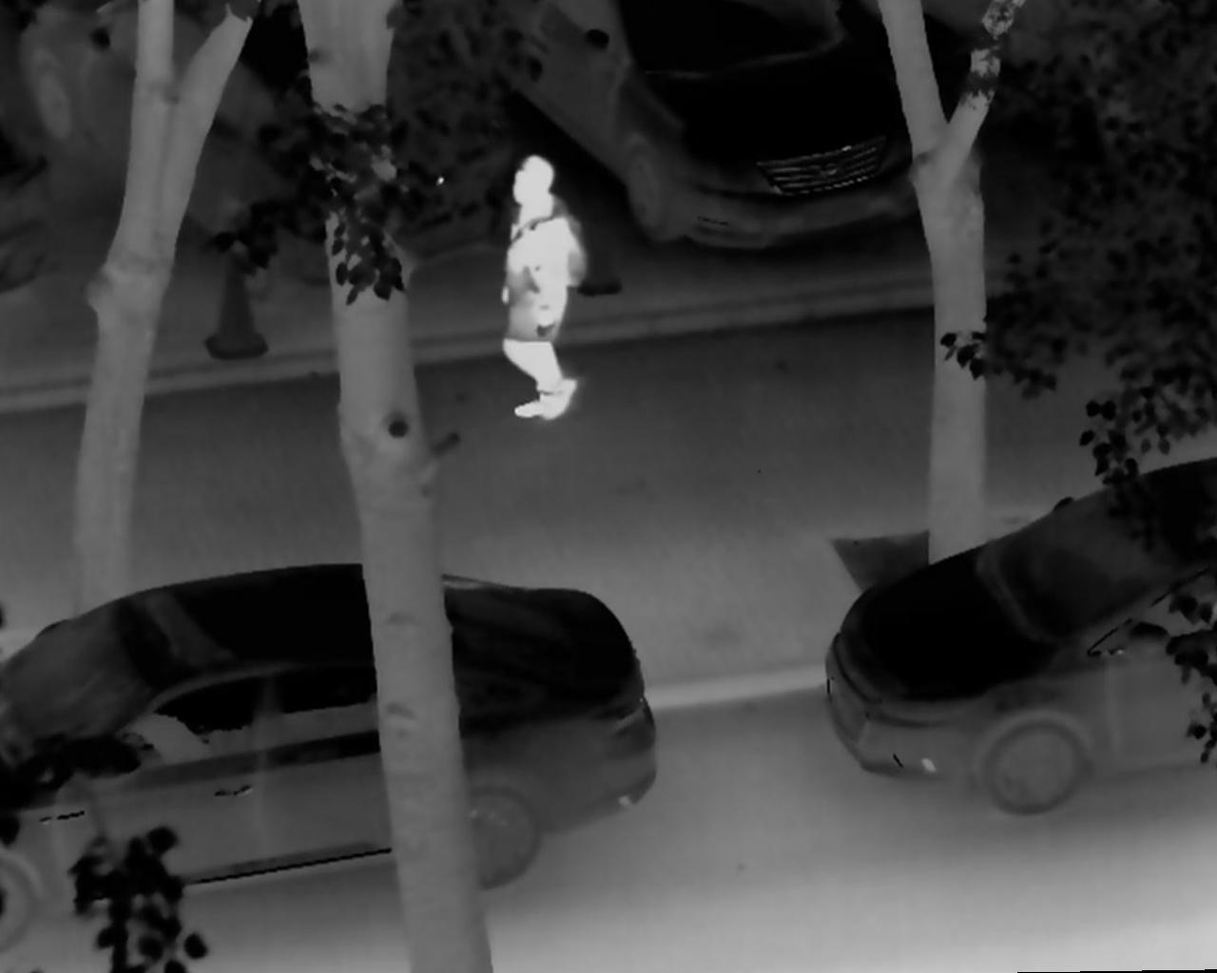person: (490, 154, 586, 424)
